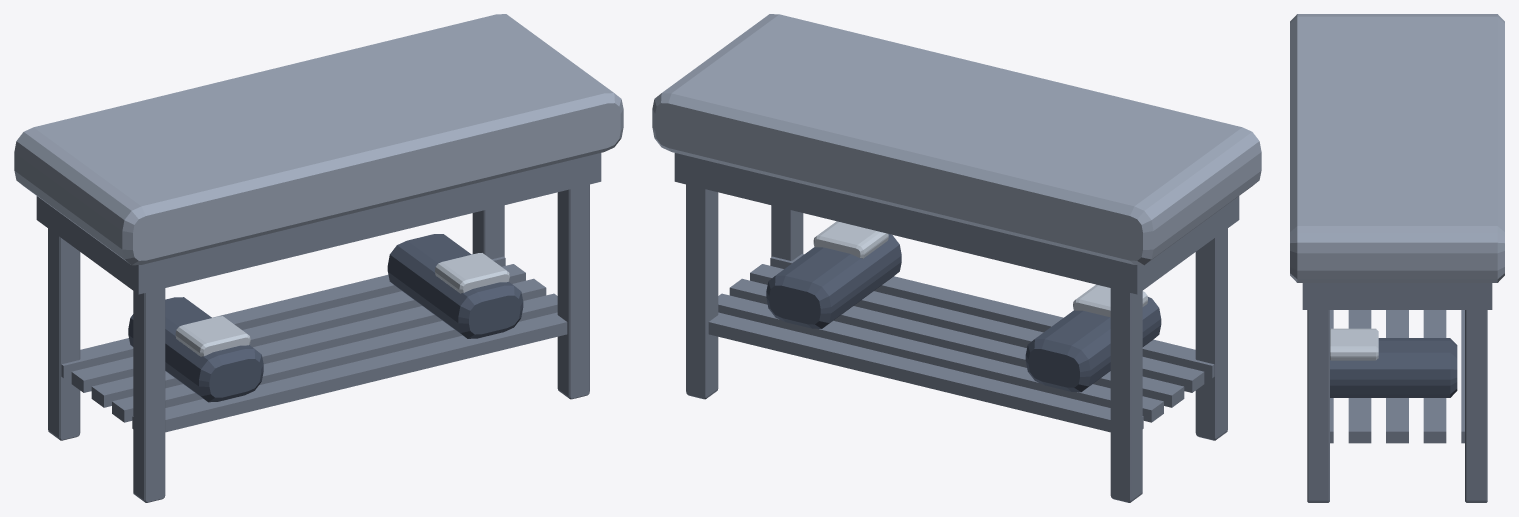
Rendered from shoe-bench-lite.glb.
3 renders of one model, left to right at view 1: azimuth 30°, elevation 25°; view 2: azimuth 150°, elevation 25°; view 3: azimuth 270°, elevation 25°, orthographic. The views are drawn at different scales.
Visible parts, largest first — view 1: soft, body, dark, light; view 2: soft, body, dark, light; view 3: soft, body, dark, light.
Boxes of the visible parts, x1,y1,x2,y2 form: soft: (14, 14, 623, 265); body: (36, 153, 601, 502); dark: (128, 234, 523, 402); light: (175, 253, 509, 356); soft: (652, 14, 1261, 265); body: (674, 153, 1239, 502); dark: (766, 234, 1161, 392); light: (813, 221, 1147, 317); soft: (1290, 14, 1504, 282); body: (1302, 283, 1492, 502); dark: (1330, 338, 1457, 397); light: (1330, 328, 1378, 360).
Size of the model in its own units: 0.85 by 0.4925 by 0.34.
